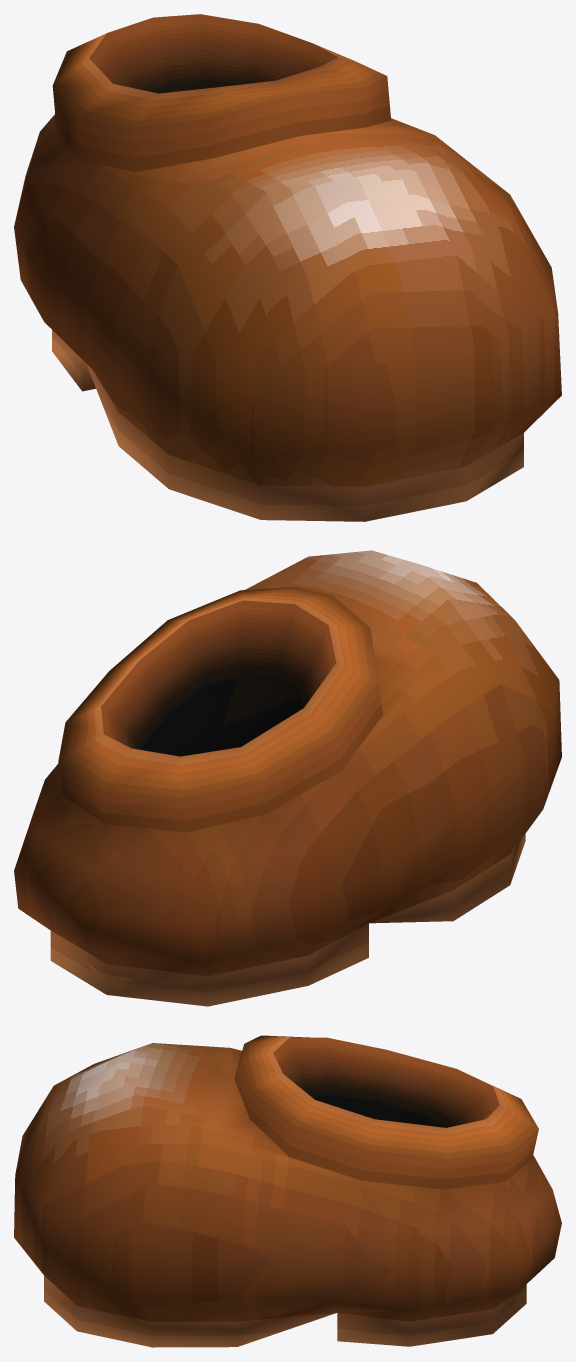
Rendered from shoel.obj.
3 views of the same model, one above another, from view 1: azimuth 30°, elevation 25°; view 2: azimuth 150°, elevation 25°; view 3: azimuth 270°, elevation 25° (orthographic). The views are drawn at different scales.
Parts seen in each view (by area): view 1: shoe; view 2: shoe; view 3: shoe.
Boxes of the visible parts, x1,y1,x2,y2 form: shoe: (14,14,561,521); shoe: (14,550,561,1006); shoe: (14,1035,561,1347).
Size of the model in its own units: 6.7 by 5.29 by 11.06.
Materials: 1 (1 with a texture image).
